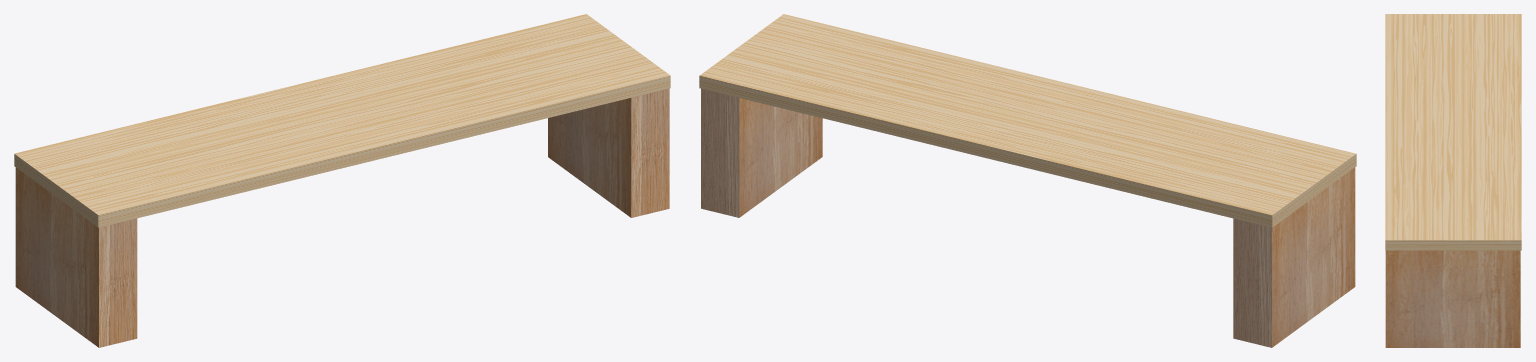
The model's file is kursi 1,1.fbx.
3 renders of one model, left to right at view 1: azimuth 30°, elevation 25°; view 2: azimuth 150°, elevation 25°; view 3: azimuth 270°, elevation 25°, orthographic. The views are drawn at different scales.
Visible parts, largest first — view 1: Kursi 1; view 2: Kursi 1; view 3: Kursi 1.
Part boxes in pixels (<box>): Kursi 1: <box>14,14,670,347</box>; Kursi 1: <box>699,14,1356,347</box>; Kursi 1: <box>1385,14,1521,347</box>.
Size of the model in its own units: 248 by 55.14 by 63.18.
